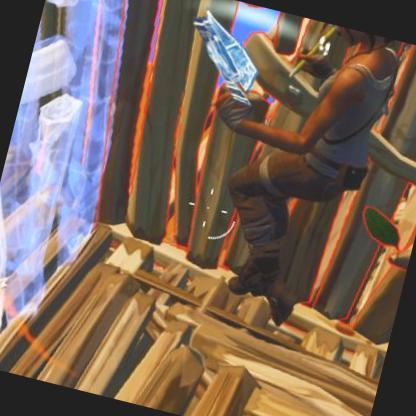person: (154, 2, 410, 355)
